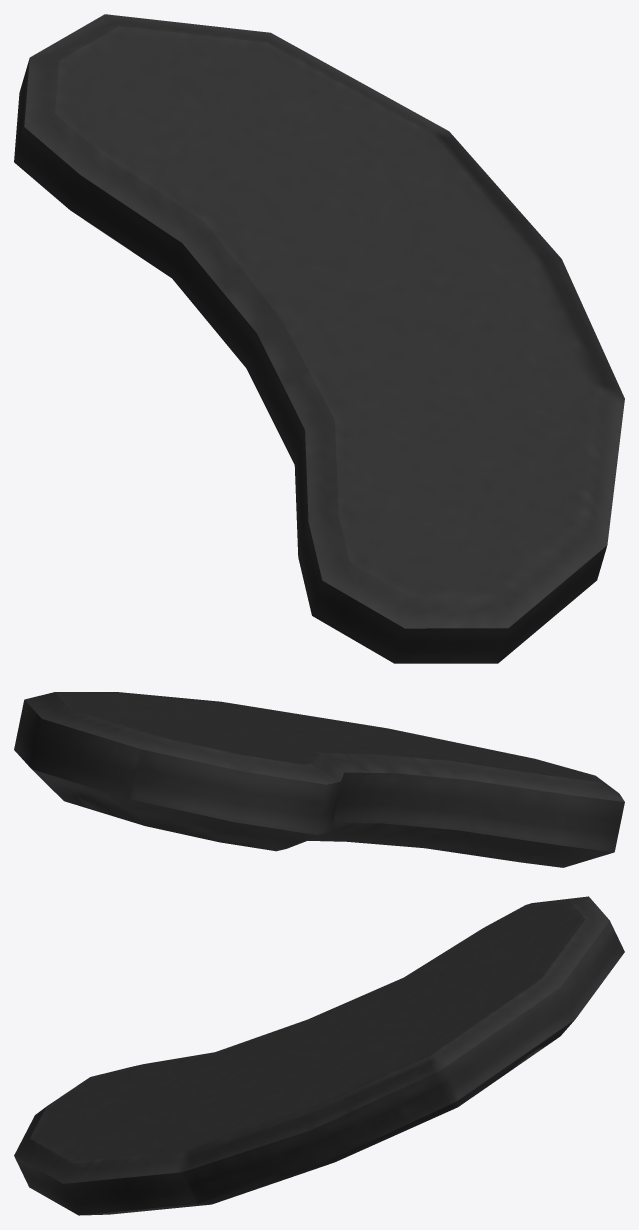
The model's file is Genesis_Controller_A.fbx.
3 renders of one model, top to bottom at view 1: azimuth 30°, elevation 25°; view 2: azimuth 150°, elevation 25°; view 3: azimuth 270°, elevation 25°, orthographic. The views are drawn at different scales.
Parts seen in each view (by area): view 1: Genesis_Controller_A; view 2: Genesis_Controller_A; view 3: Genesis_Controller_A.
Boxes of the visible parts, x1=… form: Genesis_Controller_A: x1=14, y1=14, x2=624, y2=663; Genesis_Controller_A: x1=14, y1=692, x2=624, y2=867; Genesis_Controller_A: x1=14, y1=896, x2=624, y2=1215.
Bounding box in the file's own units: 0.0722 × 0.0652 × 0.1333.
